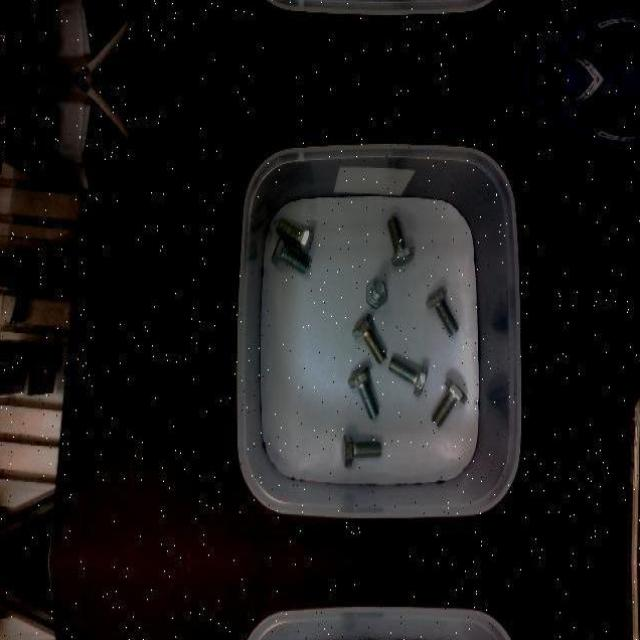screw: (431, 378, 468, 428), (426, 284, 459, 336), (352, 314, 386, 364), (348, 365, 378, 419), (387, 356, 428, 395), (272, 234, 309, 275), (275, 217, 313, 255), (341, 433, 382, 466), (388, 216, 414, 266), (366, 278, 386, 308)
